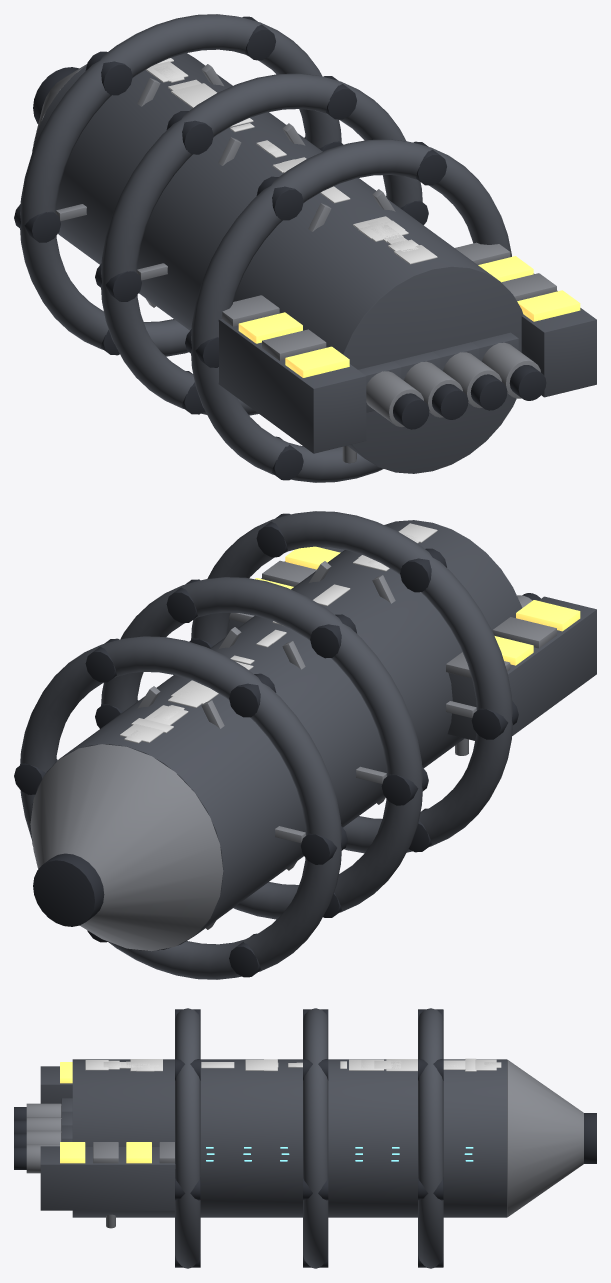
The model's file is ark.glb.
3 renders of one model, top to bottom at view 1: azimuth 30°, elevation 25°; view 2: azimuth 150°, elevation 25°; view 3: azimuth 270°, elevation 25°, orthographic. The views are drawn at different scales.
Visible parts, largest first — view 1: ark; view 2: ark; view 3: ark.
Boxes of the visible parts, x1,y1,x2,y2 form: ark: (14,14,596,482); ark: (14,511,596,979); ark: (14,1008,596,1268).
Size of the model in its own units: 20.4 by 20.4 by 45.59.
